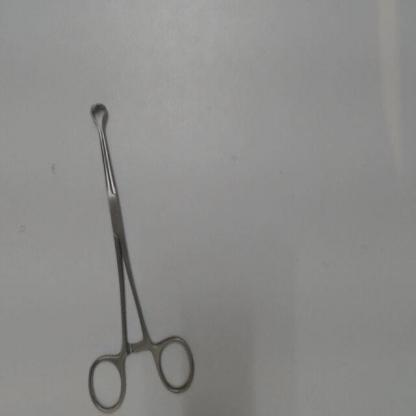Babcock Tissue Forceps: (84, 95, 203, 415)
